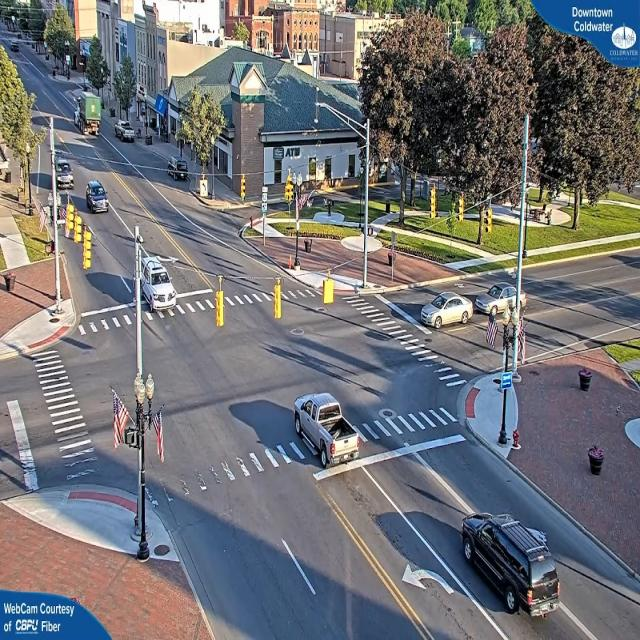car: (454, 495, 563, 614), (294, 393, 357, 469), (141, 256, 178, 315), (418, 292, 474, 327), (476, 281, 526, 314), (86, 179, 110, 214), (164, 156, 189, 180), (56, 159, 74, 188), (116, 122, 137, 142)
